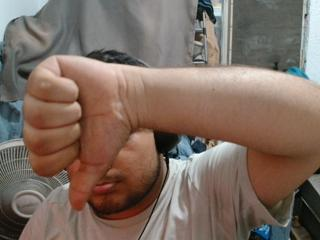Atras: (15, 49, 143, 214)
